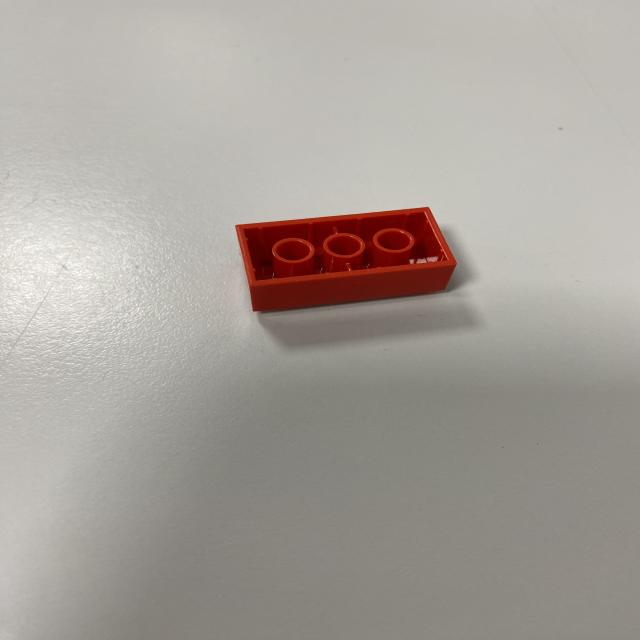C4x2x1: (233, 204, 457, 281), (253, 263, 455, 311)
